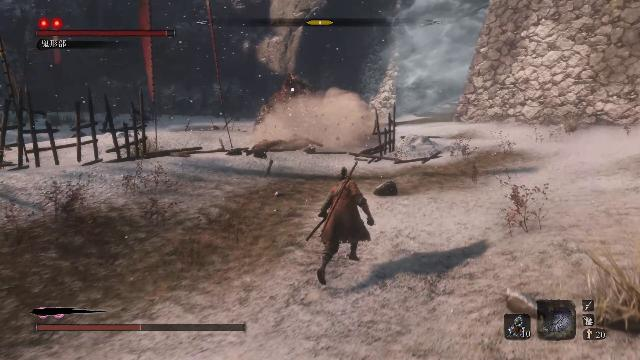sk: (303, 165, 377, 291)
